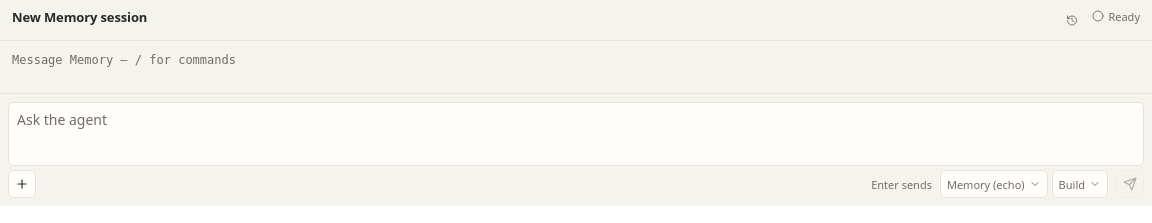
Test: the history control, and the capability behind it › is drawn, named and expandable when the engine reported it available
Click the button named "Sessions this engine holds".
click(1072, 20)  # box [1060, 8, 1084, 32]
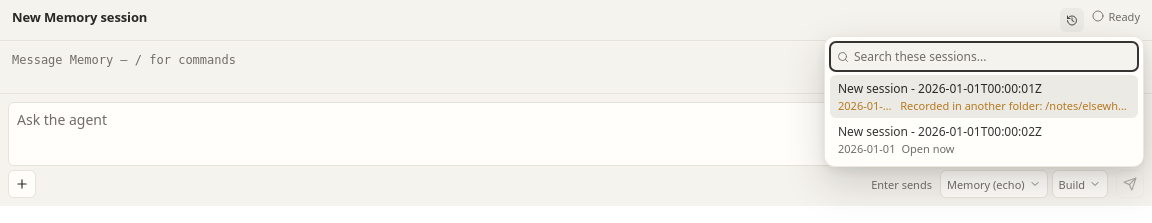
expect the button named "Sessions this engine holds" is expanded: met, box [1060, 8, 1084, 32]
